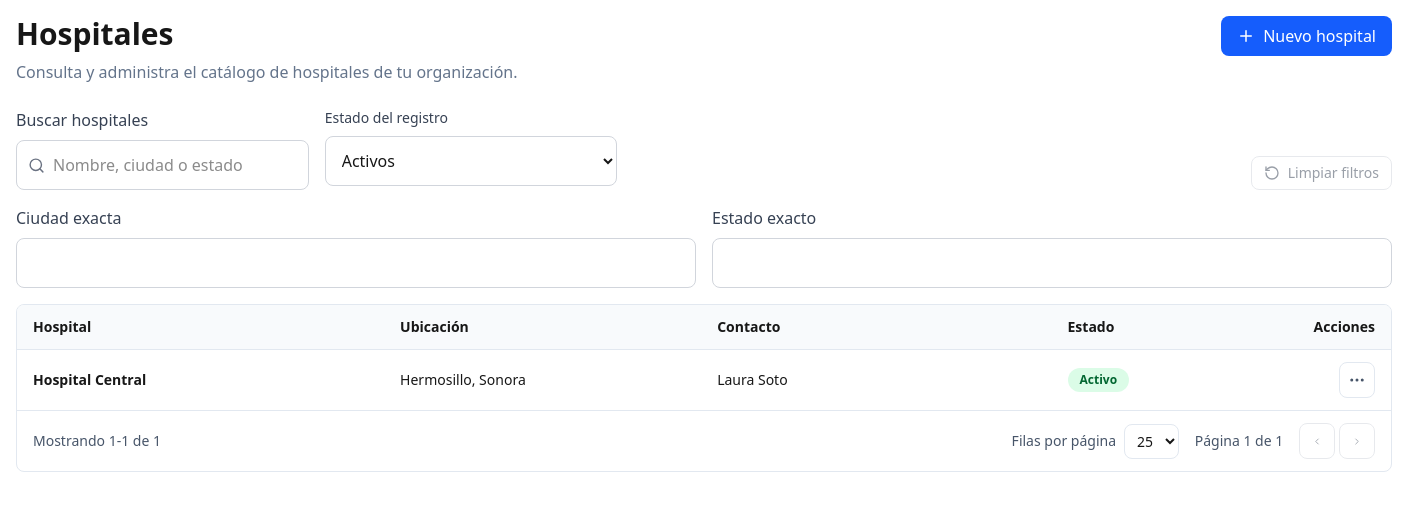
Scenario: HospitalsPage › conserva create/edit para SALES sin lifecycle
The image size is (1409, 510).
Expected: the text "Hospital Central" is shown, [33,370,146,389]
Expected: the button "Nuevo hospital" is shown, [1221,16,1392,56]
Click the button named "Acciones del hospital Hospital Central" at (1357, 380), box [1339,362,1375,398]
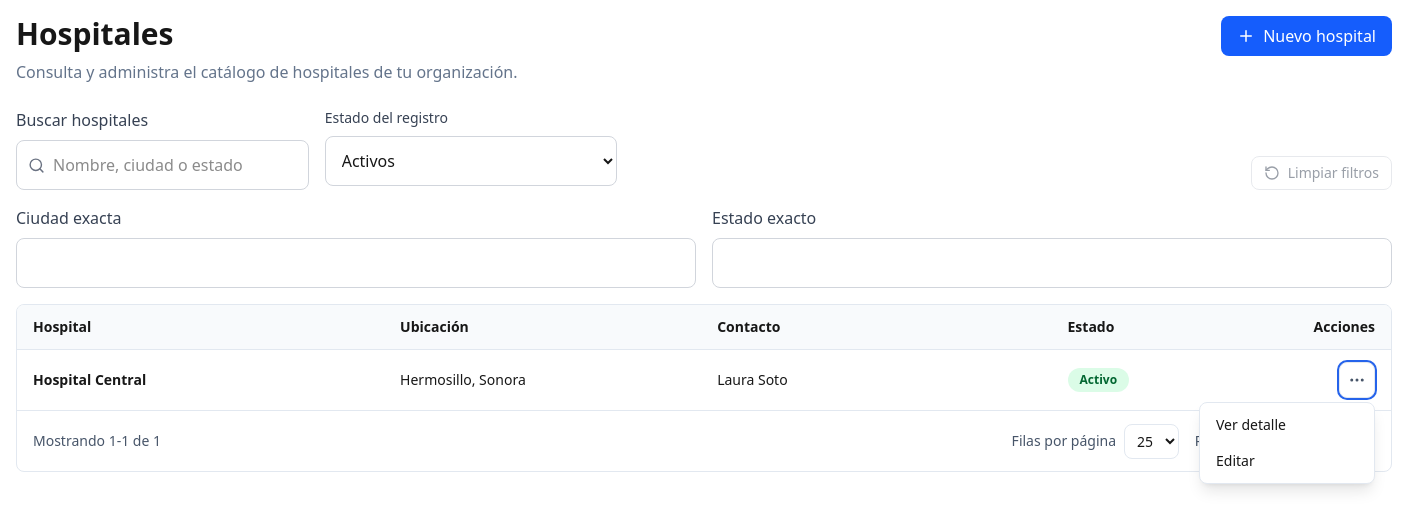
Now the menu item "Editar" is shown, box [1204,443,1370,479]
